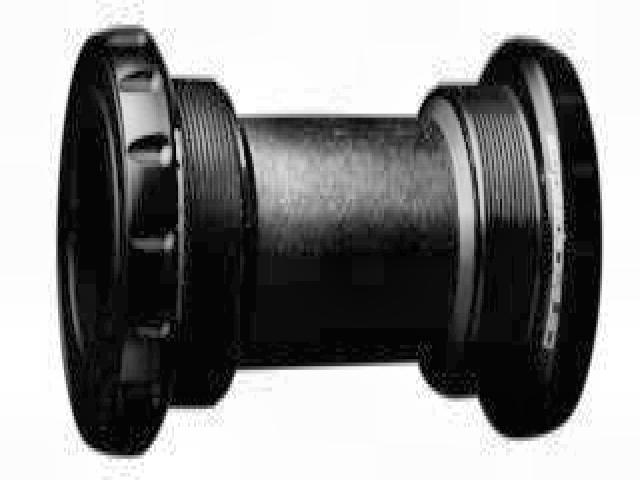bottom_bracket: (56, 22, 604, 458)
